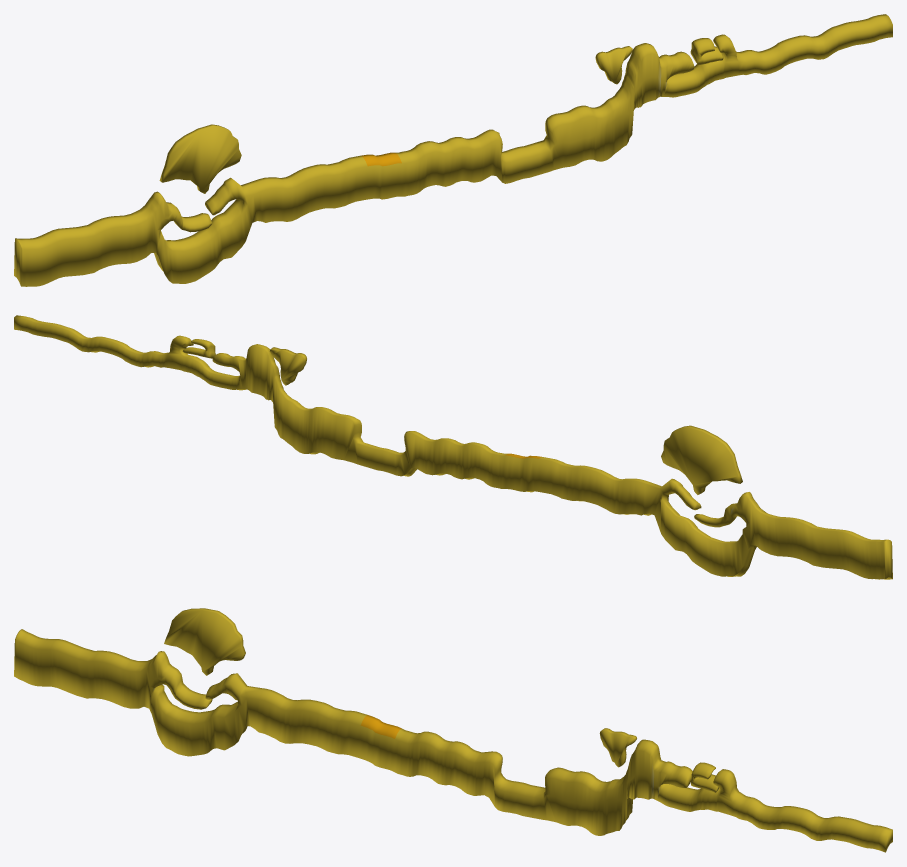
File: Desert Needs some fixes.fbx
3 views of the same model, one above another, from view 1: azimuth 30°, elevation 25°; view 2: azimuth 150°, elevation 25°; view 3: azimuth 330°, elevation 25° (orthographic).
Parts seen in each view (by area): view 1: MapaDesert; view 2: MapaDesert; view 3: MapaDesert.
Boxes of the visible parts, bbox=[...] form: MapaDesert: bbox=[14, 14, 892, 286]; MapaDesert: bbox=[14, 315, 892, 579]; MapaDesert: bbox=[14, 608, 892, 852].
Bounding box in the file's own units: 68671 × 11010 × 1067.
